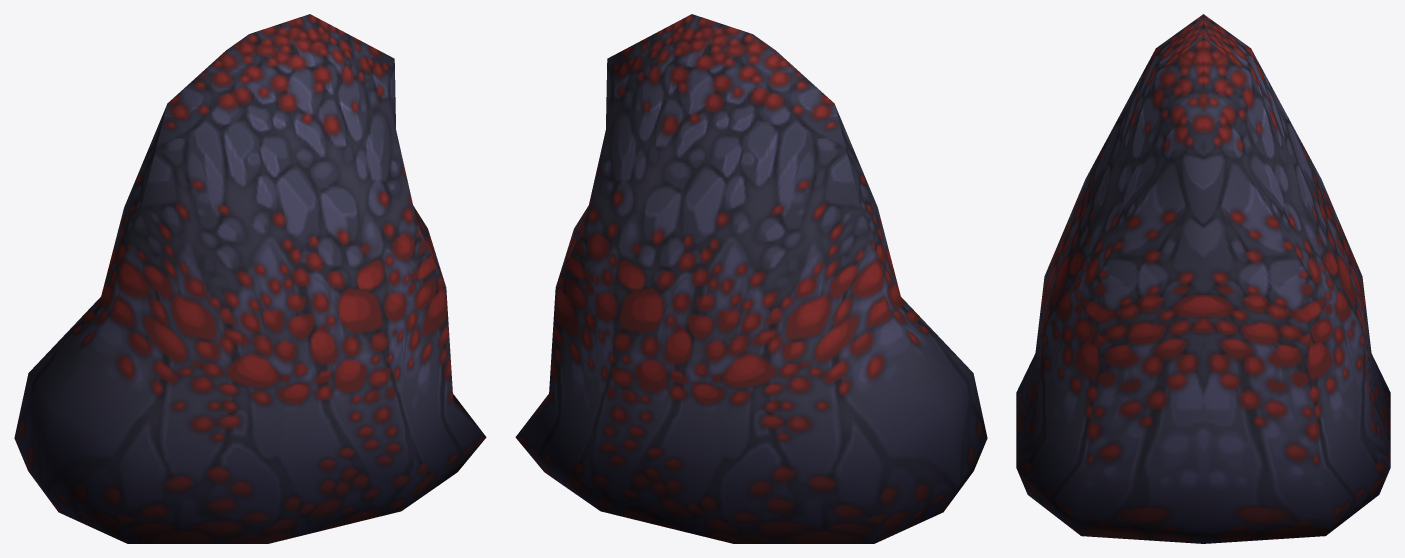
Rendered from Rock_03b.FBX.
3 renders of one model, left to right at view 1: azimuth 30°, elevation 25°; view 2: azimuth 150°, elevation 25°; view 3: azimuth 270°, elevation 25°, orthographic. The views are drawn at different scales.
Visible parts, largest first — view 1: Rock_03b; view 2: Rock_03b; view 3: Rock_03b.
Part boxes in pixels (x1,y1,x2,y2): Rock_03b: [14, 14, 486, 543]; Rock_03b: [515, 14, 987, 543]; Rock_03b: [1016, 14, 1390, 543].
Size of the model in its own units: 104 by 107 by 80.53.
